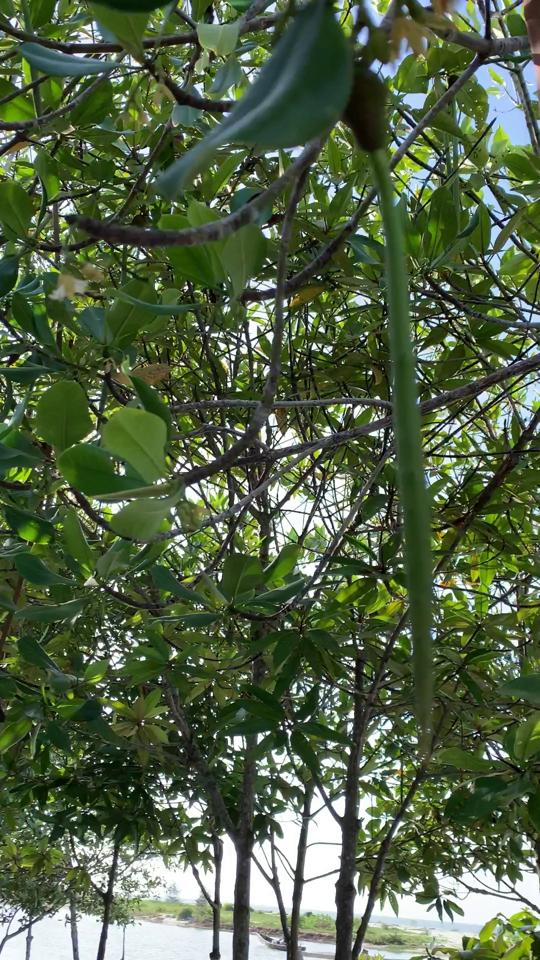mentah: (330, 48, 456, 753)
